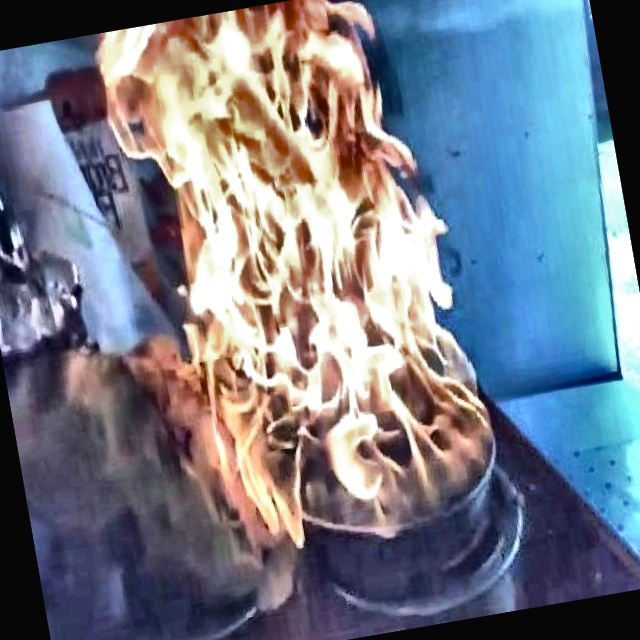fire: (131, 7, 494, 589)
